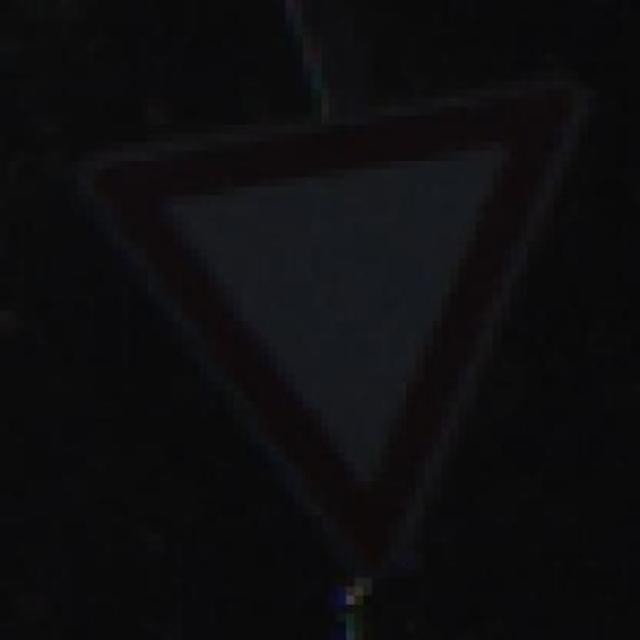Give Way: (74, 58, 601, 600)
